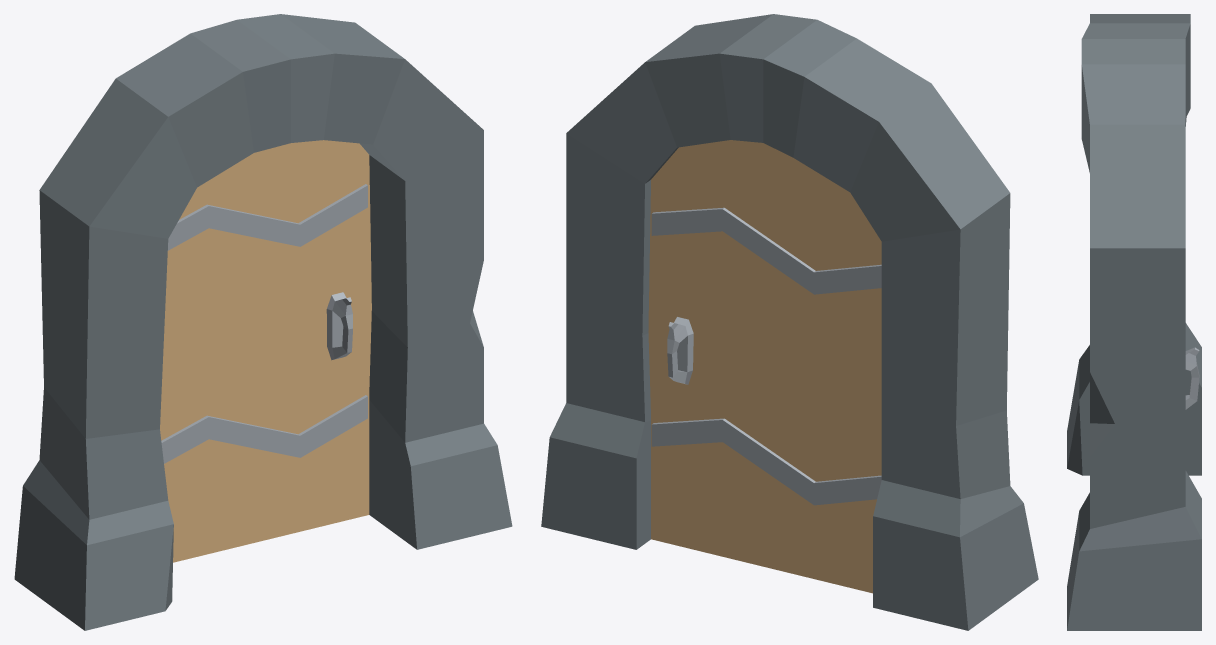
File: ExitDoor.fbx
The picture shows the model from 3 angles, left to right: view 1: azimuth 30°, elevation 25°; view 2: azimuth 150°, elevation 25°; view 3: azimuth 270°, elevation 25°; orthographic projection. The views are drawn at different scales.
Visible parts, largest first — view 1: door_arc, door; view 2: door_arc, door; view 3: door_arc, door.
Part boxes in pixels (bbox=[...]): door_arc: bbox=[14, 14, 512, 630]; door: bbox=[160, 140, 371, 562]; door_arc: bbox=[541, 14, 1038, 630]; door: bbox=[648, 140, 881, 593]; door_arc: bbox=[1067, 14, 1201, 630]; door: bbox=[1185, 347, 1199, 409].
Size of the model in its own units: 217 by 249 by 61.8.
